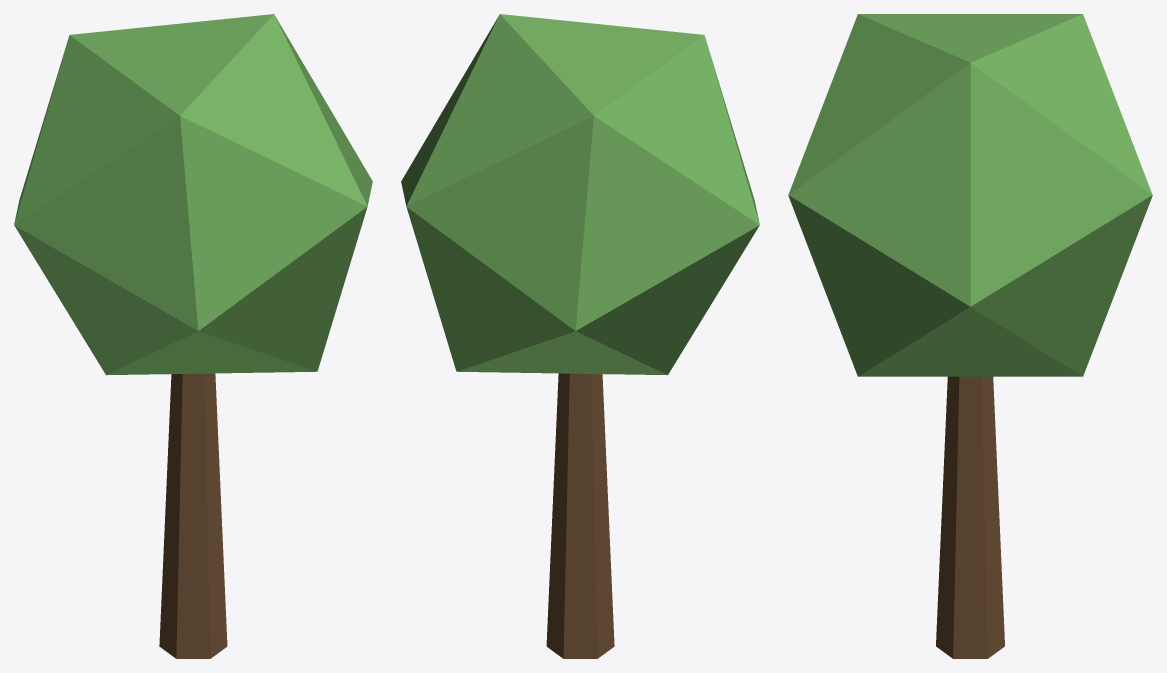
Rendered from Environment_Objects_Tree_06.fbx.
3 renders of one model, left to right at view 1: azimuth 30°, elevation 25°; view 2: azimuth 150°, elevation 25°; view 3: azimuth 270°, elevation 25°, orthographic.
Visible parts, largest first — view 1: Environment_Objects_Tree_06; view 2: Environment_Objects_Tree_06; view 3: Environment_Objects_Tree_06.
Boxes of the visible parts, left/top/right/bottom form: Environment_Objects_Tree_06: left=14, top=14, right=372, bottom=658; Environment_Objects_Tree_06: left=401, top=14, right=759, bottom=658; Environment_Objects_Tree_06: left=788, top=14, right=1152, bottom=658.
Size of the model in its own units: 248 by 405 by 214.
